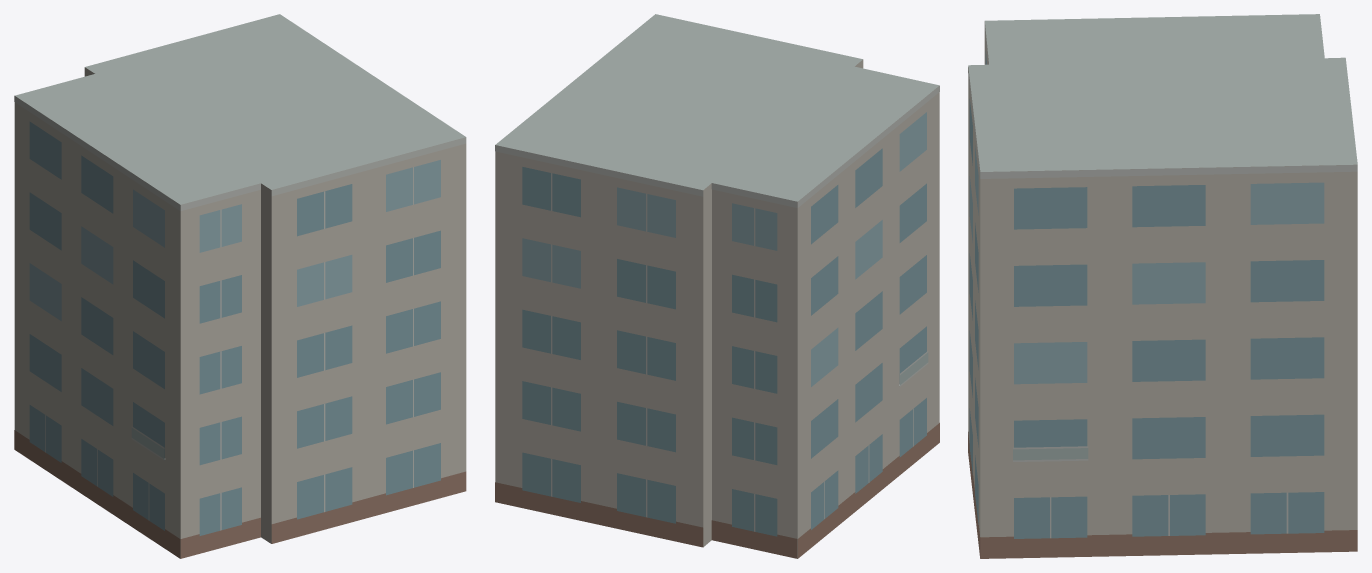
Rendered from survey-upis-33003228.glb.
3 views of the same model, side by side, from view 1: azimuth 30°, elevation 25°; view 2: azimuth 150°, elevation 25°; view 3: azimuth 270°, elevation 25° (orthographic). The views are drawn at different scales.
Visible parts, largest first — view 1: survey-upis-33003228.tmp; view 2: survey-upis-33003228.tmp; view 3: survey-upis-33003228.tmp.
Boxes of the visible parts, x1=… form: survey-upis-33003228.tmp: x1=14, y1=14, x2=466, y2=558; survey-upis-33003228.tmp: x1=495, y1=14, x2=939, y2=558; survey-upis-33003228.tmp: x1=968, y1=14, x2=1357, y2=558.
Bounding box in the file's own units: 11.84 × 13.5 × 12.33.
